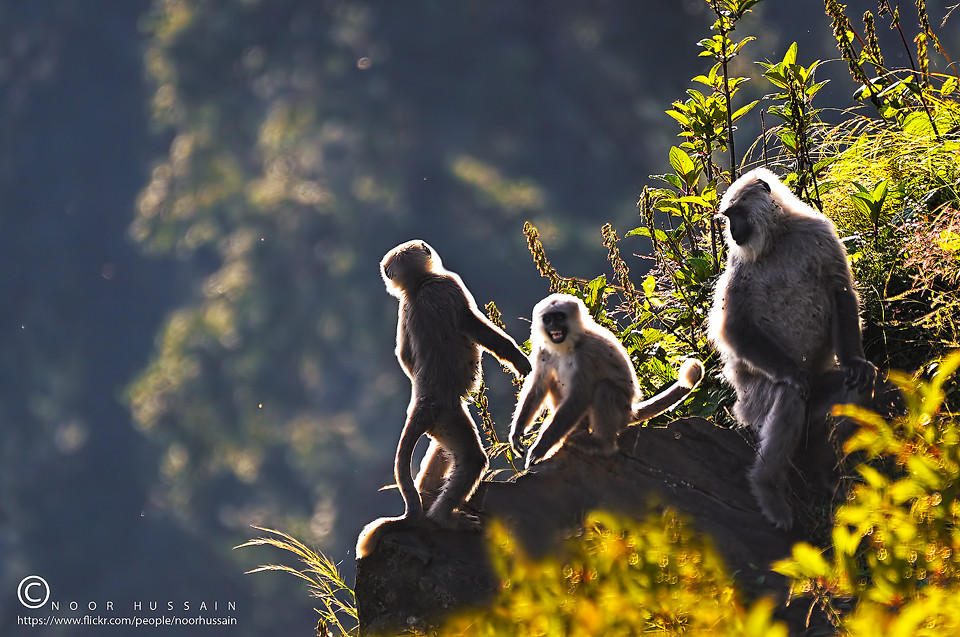monkey: (672, 160, 894, 521), (333, 223, 531, 568), (501, 291, 706, 469)
